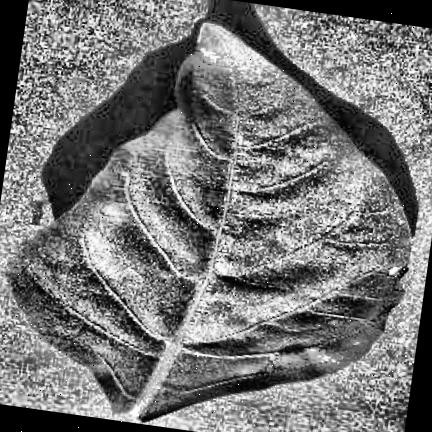leaf: (9, 22, 411, 418)
